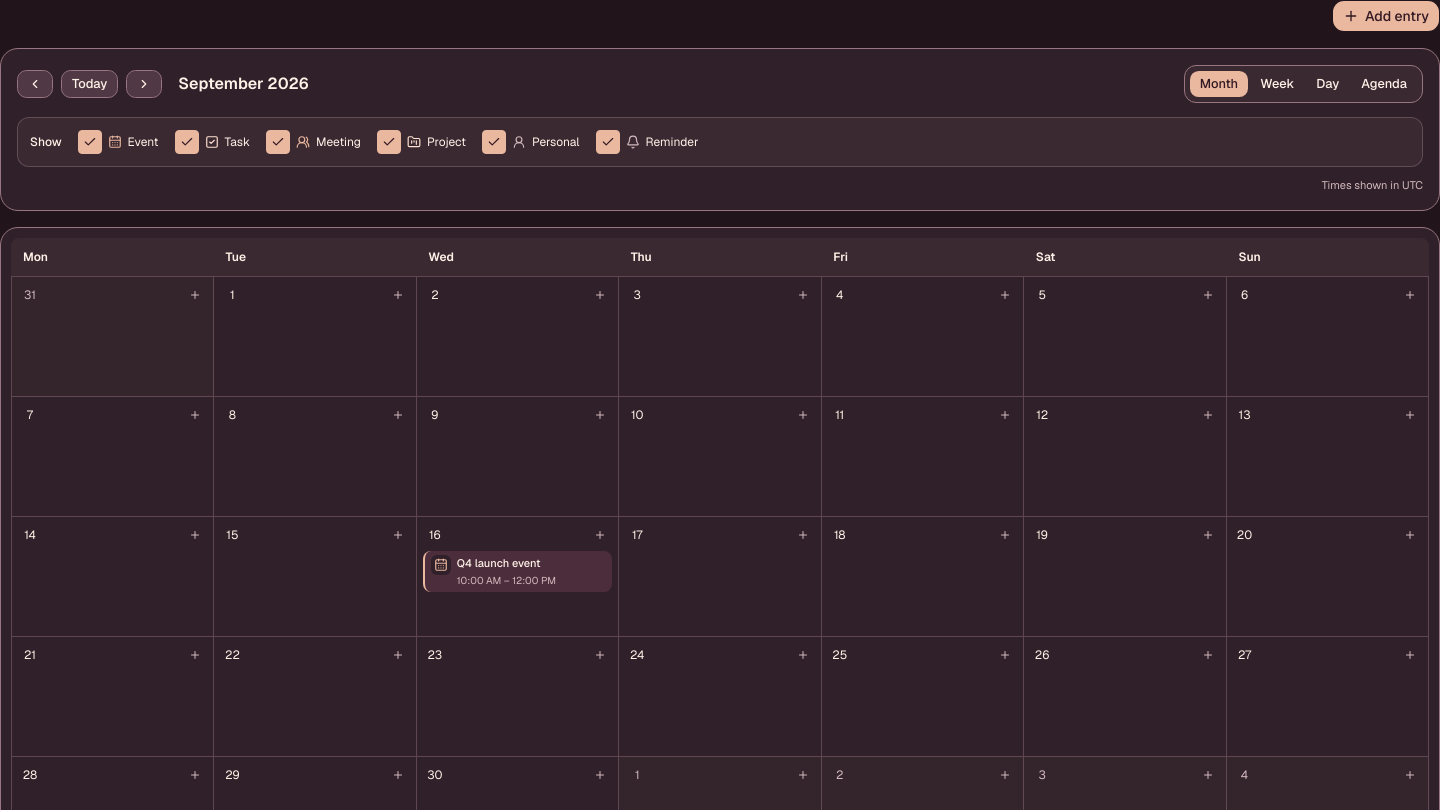
Scenario: CalendarManager › opens the read-only detail view for a projected entry, not an edit form
What coordinates should you click on to do the following:
click the text "Q4 launch event"
I would click on:
 (499, 562)
Its box is [457,556,541,570].
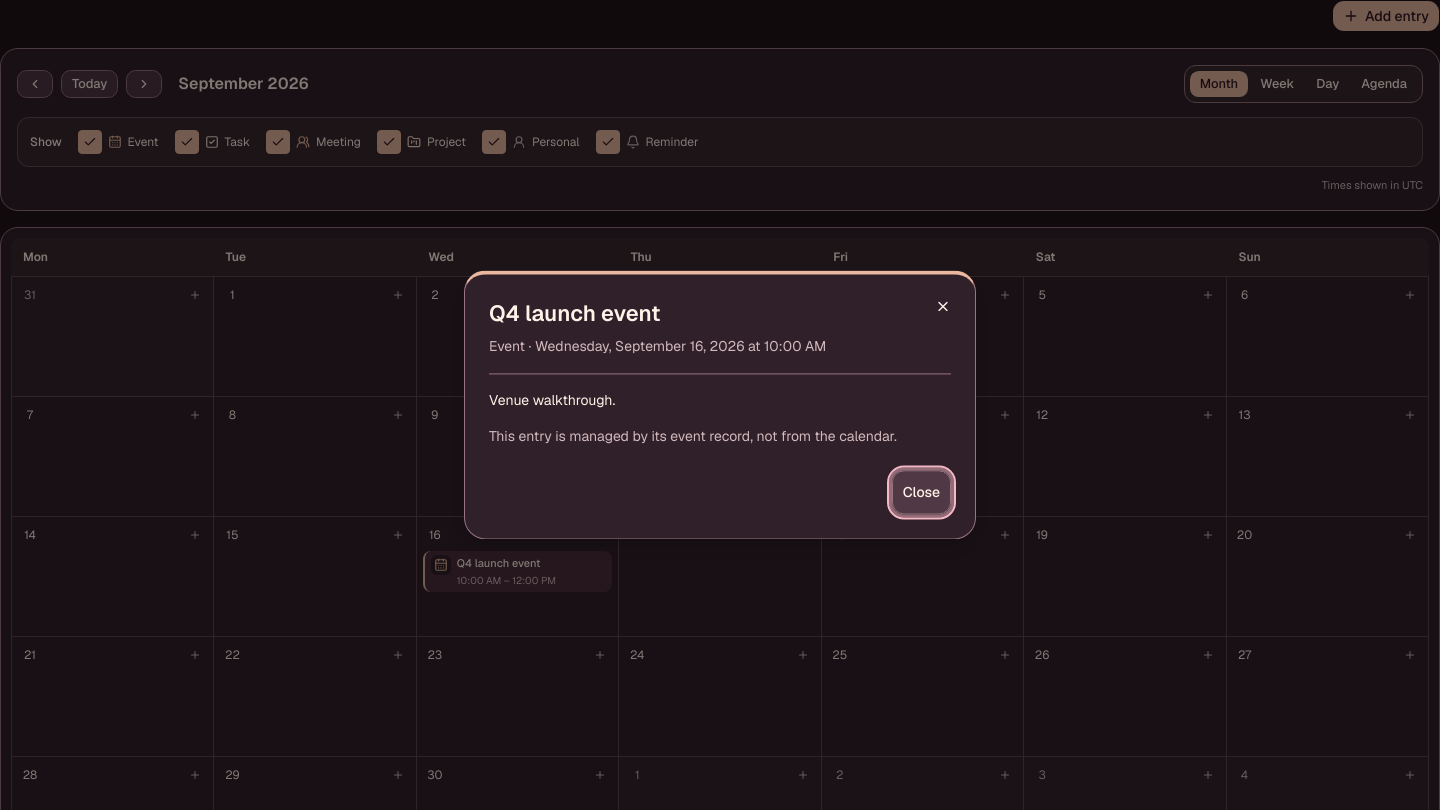
Result: the text "This entry is managed by its event record, not from the calendar." is shown at [489,427,951,447]
